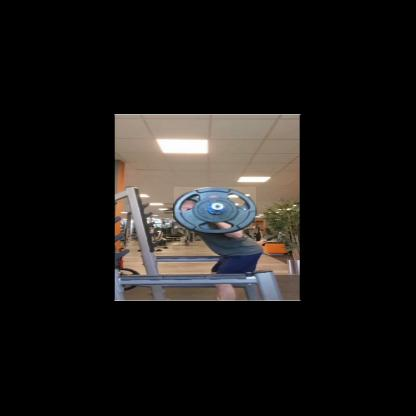barbell: (174, 187, 256, 233)
